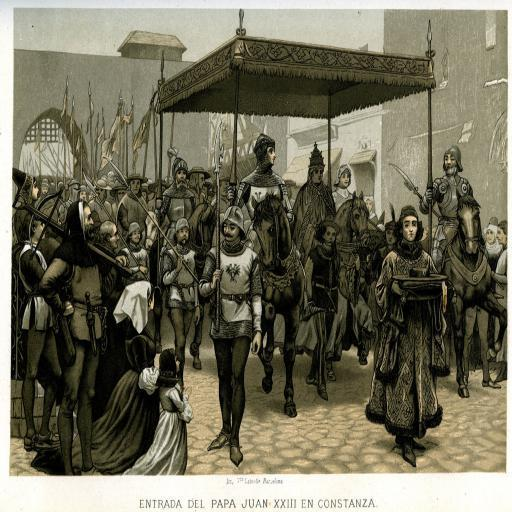horse: (430, 182, 509, 400), (299, 187, 372, 384), (250, 186, 306, 422), (150, 198, 218, 370), (143, 209, 165, 260)
